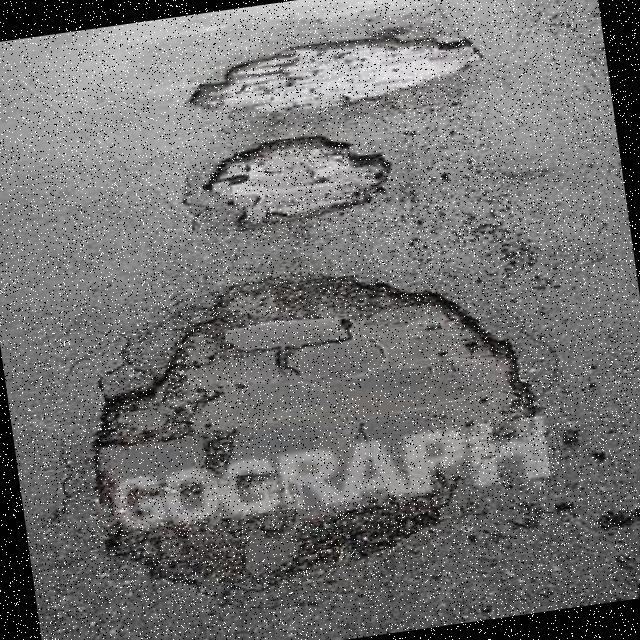Pothole: (94, 277, 555, 595), (188, 39, 484, 115), (202, 136, 391, 228)
